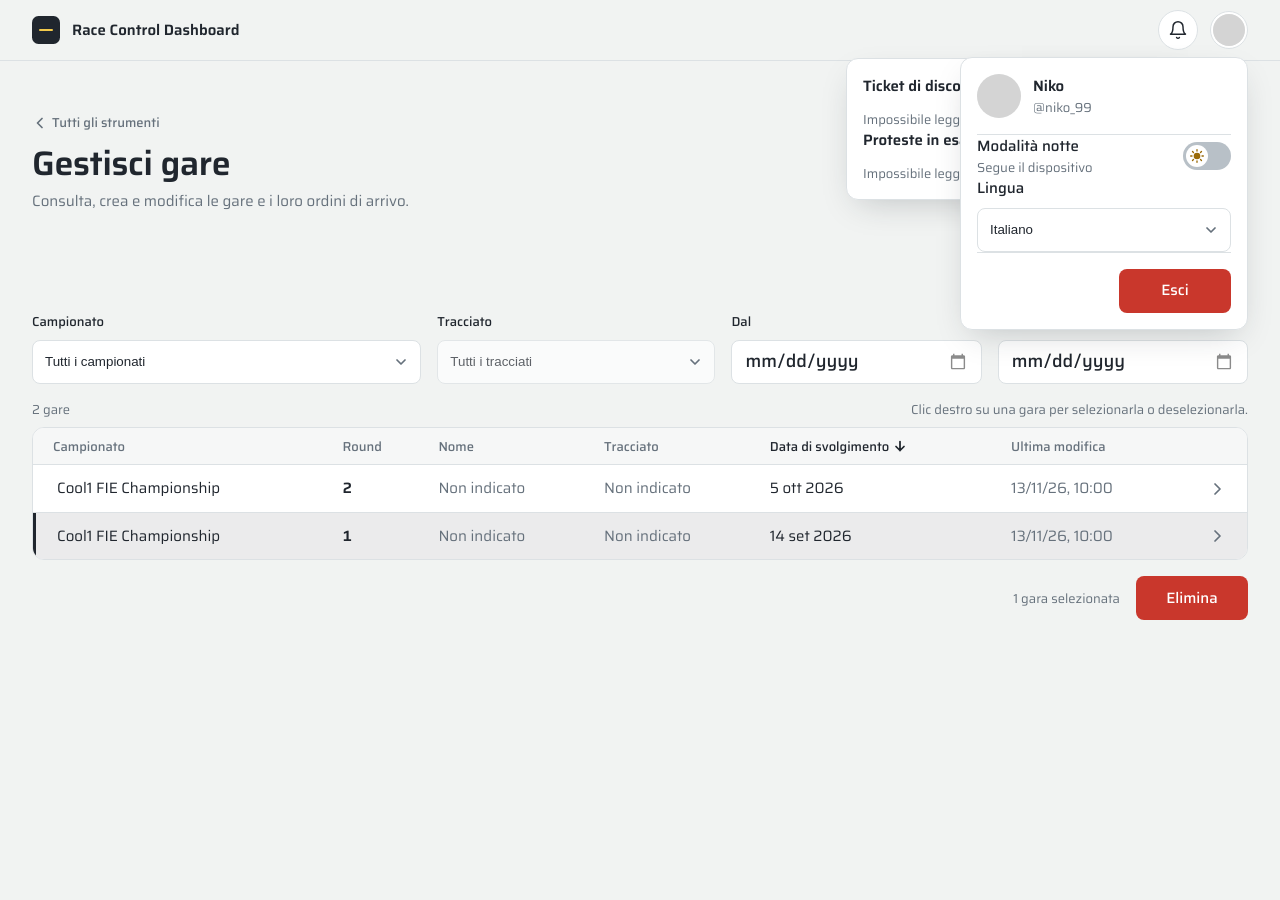
Test: Gestisci ordini di arrivo: elenco › seleziona con il tasto destro ed elimina dopo la conferma
Expected: the table is shown, top-left (33, 428), bottom-right (1247, 559)
Click the button "Elimina": {"x": 1192, "y": 598} top-left (1136, 576), bottom-right (1248, 620)
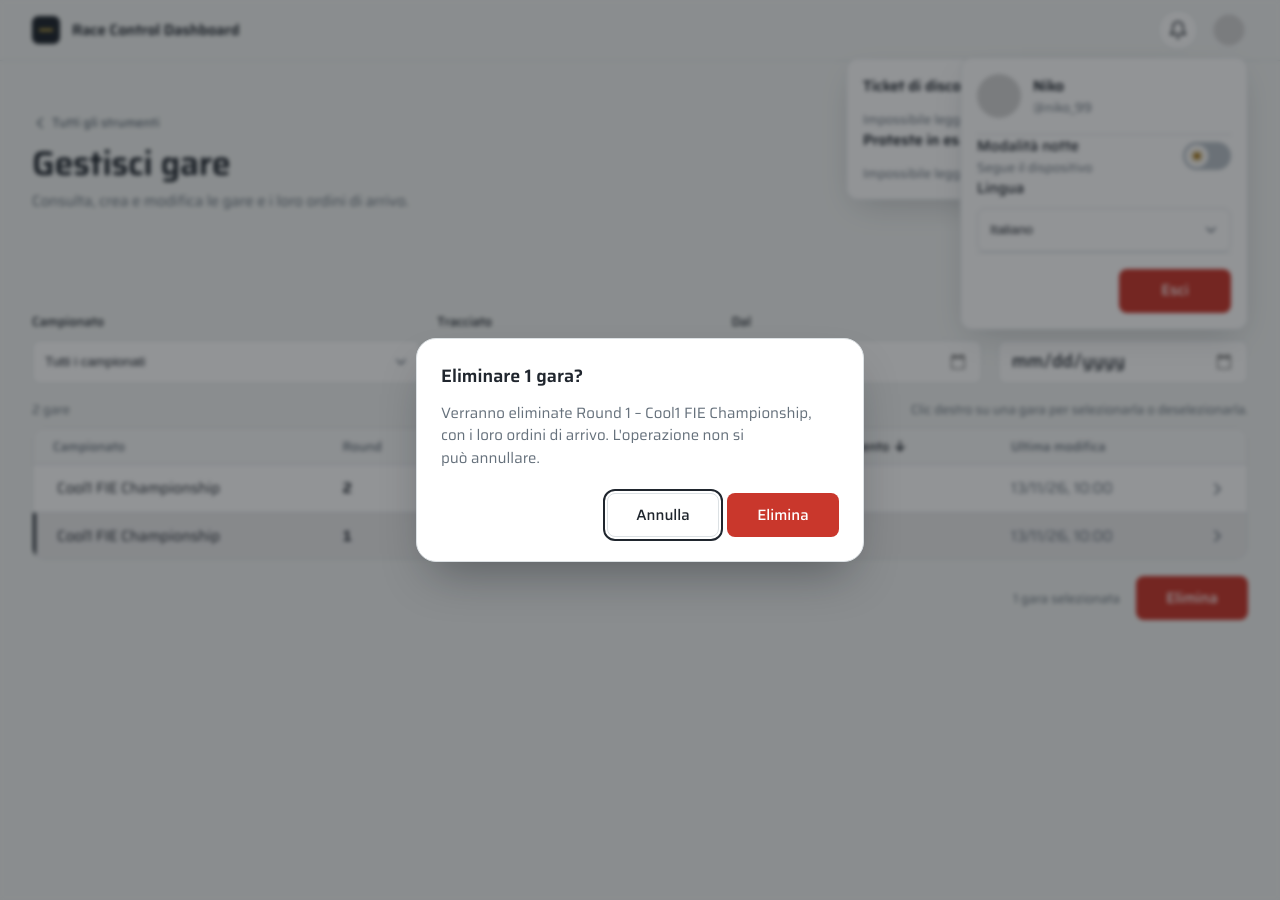
Click the button "Elimina" below "Eliminare 1 gara?": {"x": 783, "y": 515} top-left (727, 493), bottom-right (839, 537)
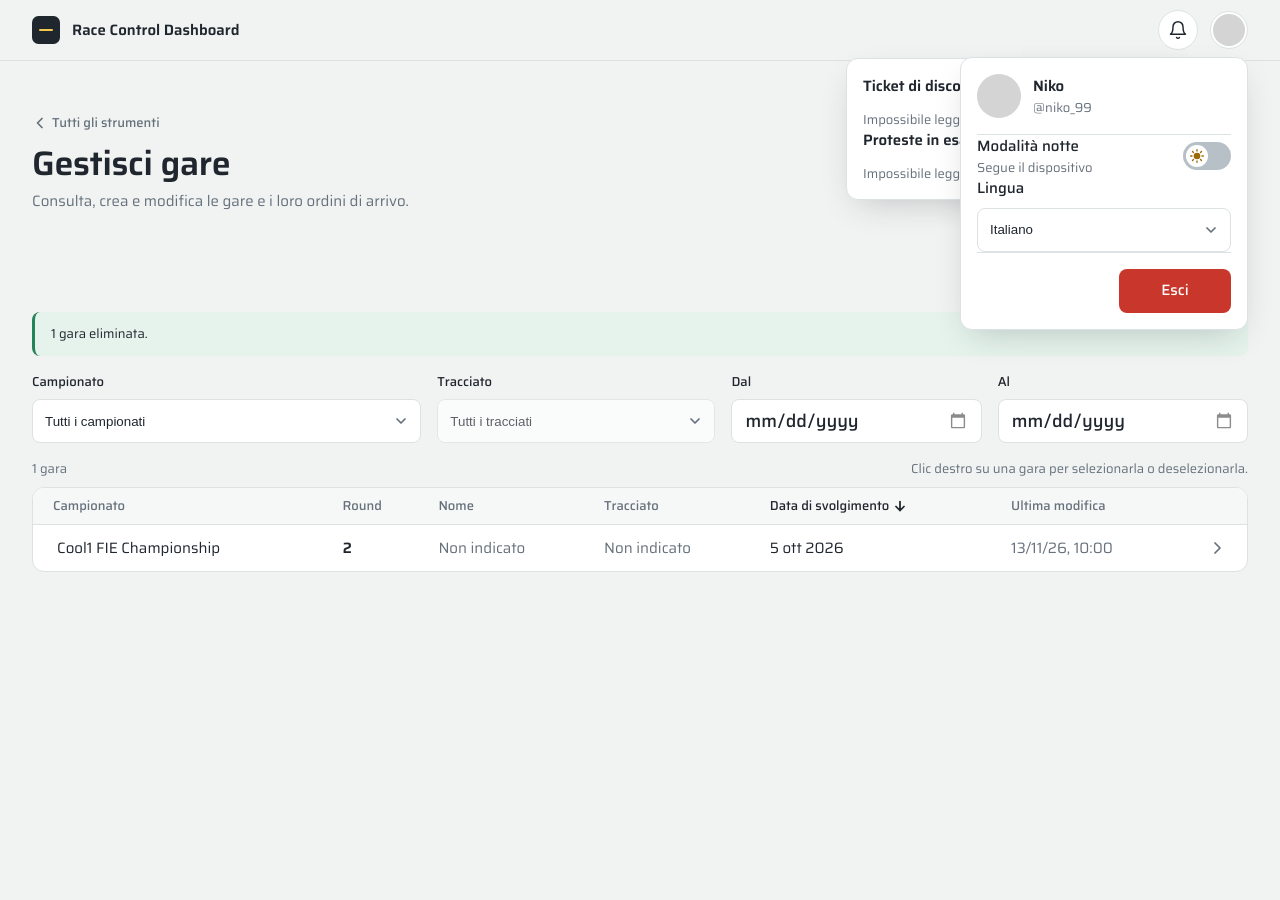
Expected: the text "1 gara eliminata." is shown, top-left (32, 312), bottom-right (1248, 356)
